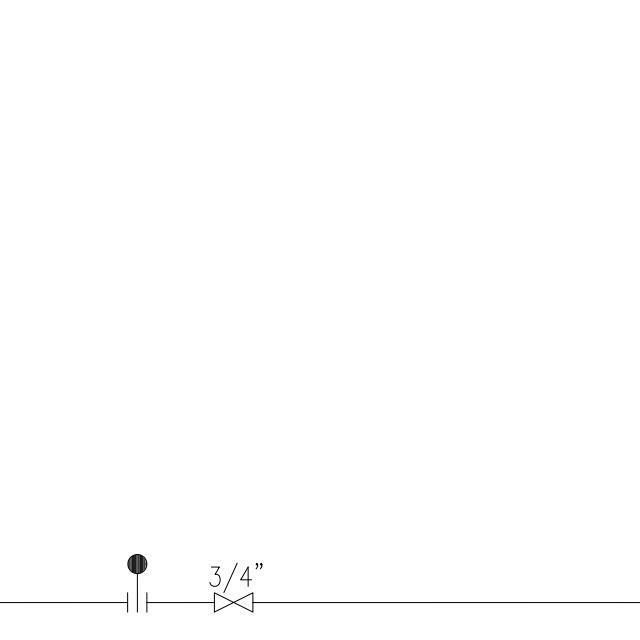GV: (209, 588, 257, 614)
